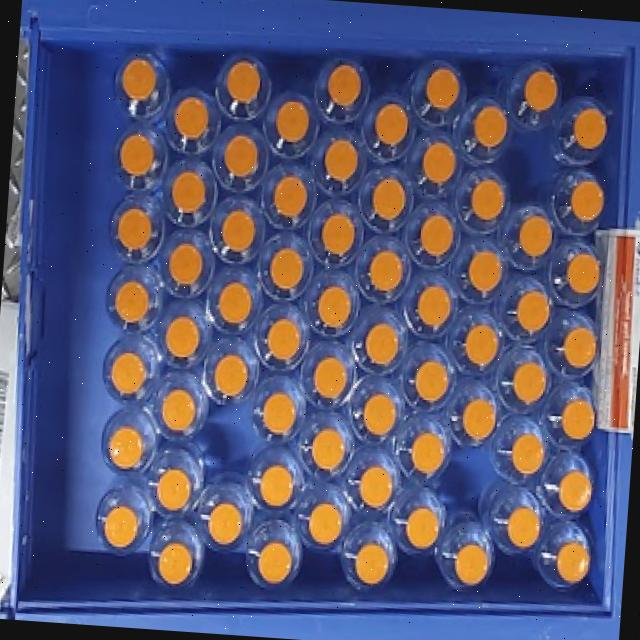vials: (109, 350, 146, 395), (121, 57, 157, 101), (114, 279, 150, 323), (156, 467, 192, 511), (164, 315, 200, 358), (273, 174, 308, 218), (213, 353, 248, 397), (103, 504, 138, 548), (561, 326, 597, 368), (511, 361, 547, 403), (326, 63, 361, 106), (174, 96, 209, 139), (223, 134, 258, 177), (358, 465, 393, 508), (257, 541, 292, 584), (157, 541, 192, 584), (421, 141, 455, 185), (372, 177, 406, 221), (321, 212, 355, 256), (311, 427, 345, 471), (109, 425, 143, 469), (226, 61, 261, 103), (467, 249, 502, 291), (416, 285, 451, 327), (414, 359, 449, 401), (217, 282, 252, 324), (161, 389, 196, 431), (354, 542, 389, 584), (374, 102, 408, 145), (570, 179, 604, 222), (171, 170, 205, 213), (221, 209, 255, 252), (117, 207, 151, 250), (317, 285, 351, 328), (365, 322, 399, 365), (266, 317, 300, 360), (556, 540, 590, 583), (262, 391, 296, 434), (454, 542, 488, 585), (405, 506, 439, 549), (308, 502, 342, 545), (524, 69, 558, 111), (473, 105, 507, 147), (425, 67, 459, 109), (275, 100, 309, 142), (470, 178, 504, 220), (120, 133, 154, 175), (516, 290, 550, 332), (269, 247, 303, 289), (464, 324, 498, 366), (558, 469, 592, 511), (411, 432, 445, 474), (362, 393, 396, 435), (169, 242, 202, 285), (314, 356, 347, 399), (260, 463, 293, 506), (324, 139, 358, 180), (518, 215, 552, 256), (368, 250, 402, 291), (573, 107, 606, 149), (420, 213, 453, 255), (208, 502, 241, 544), (562, 397, 594, 440), (566, 253, 599, 294), (463, 398, 495, 440), (507, 506, 539, 548), (512, 433, 544, 474)
